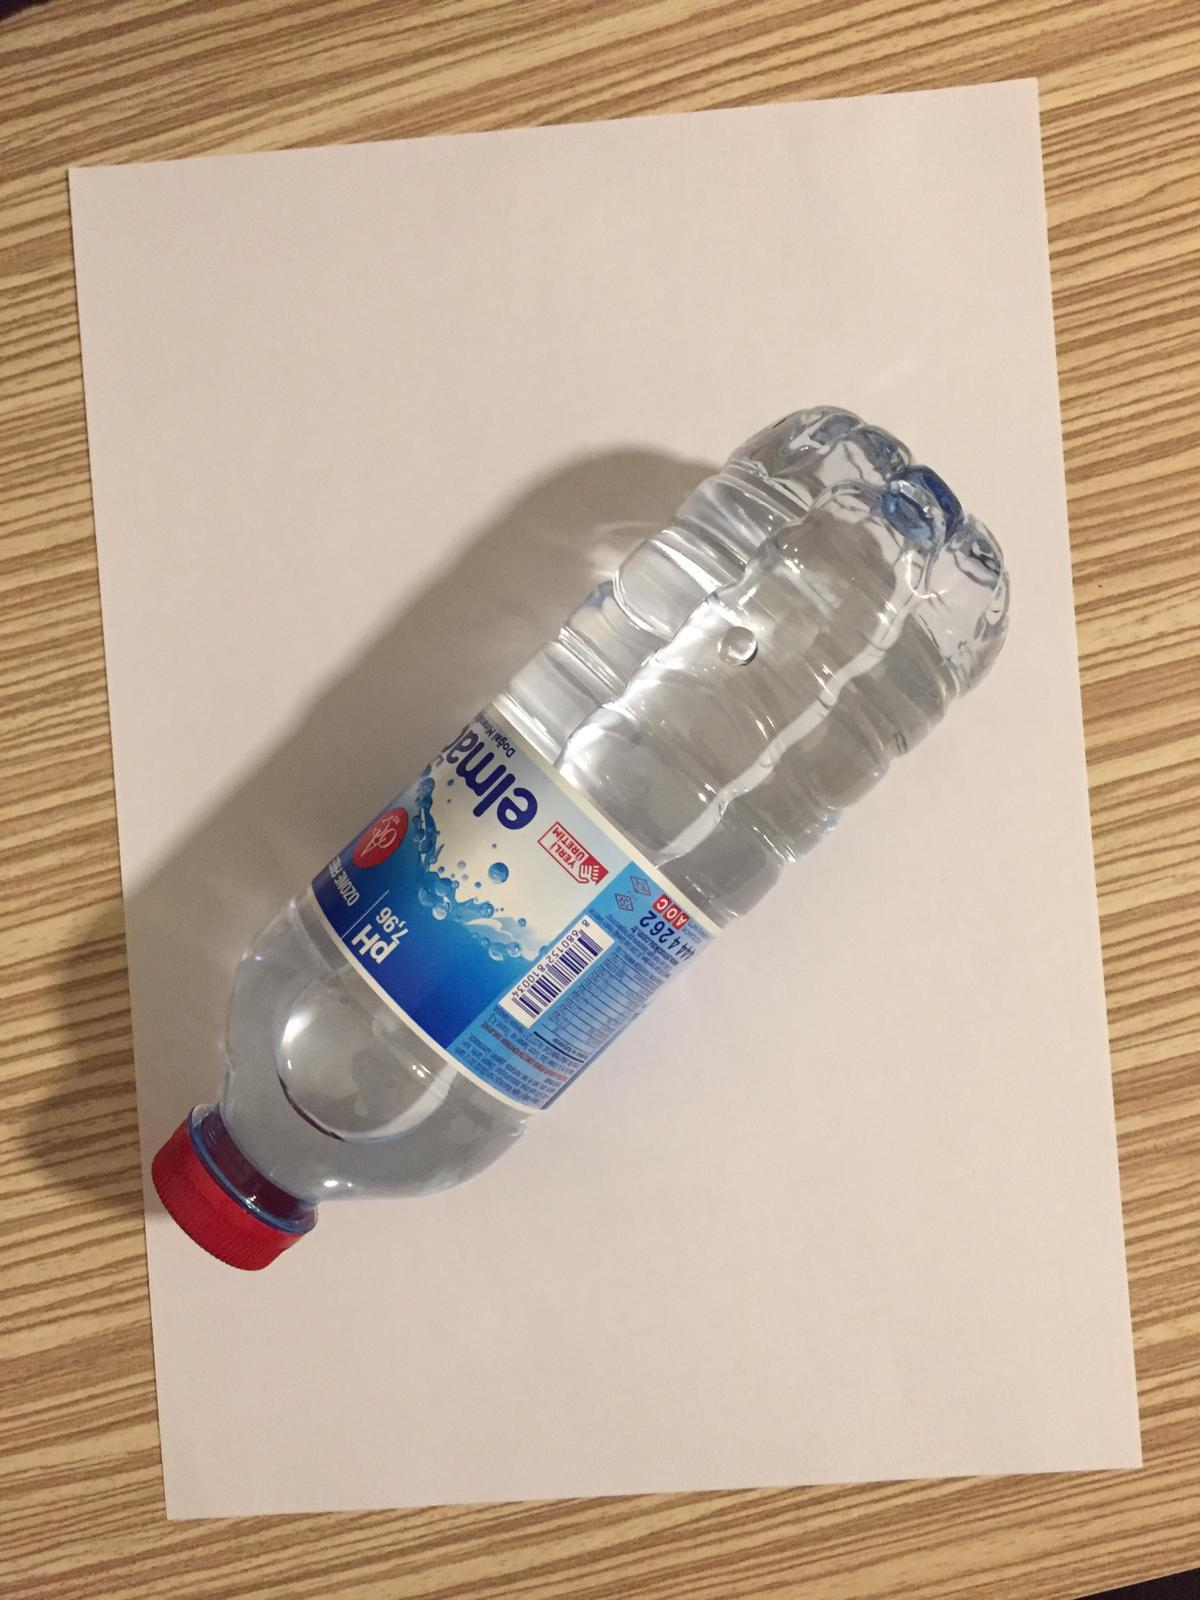bottle: (155, 404, 1017, 1265)
